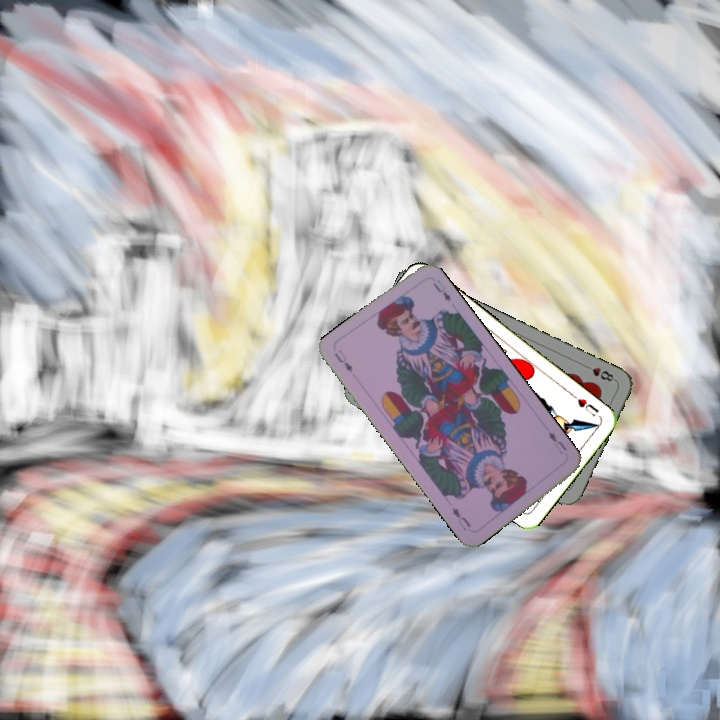EU: (330, 346, 355, 375), (544, 427, 570, 454)
H8: (580, 361, 618, 384)
HU: (568, 390, 602, 419)
